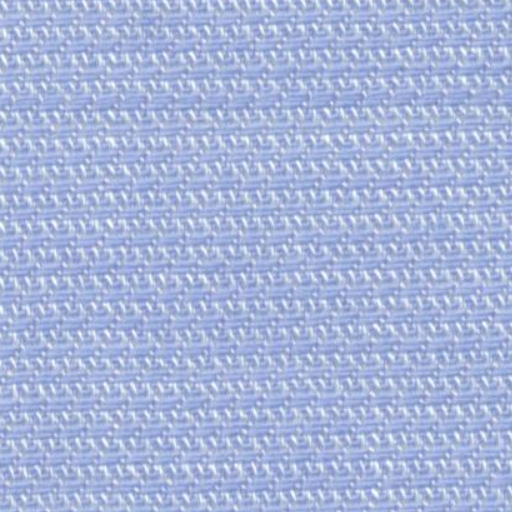TuoSha: (13, 52, 490, 138)
